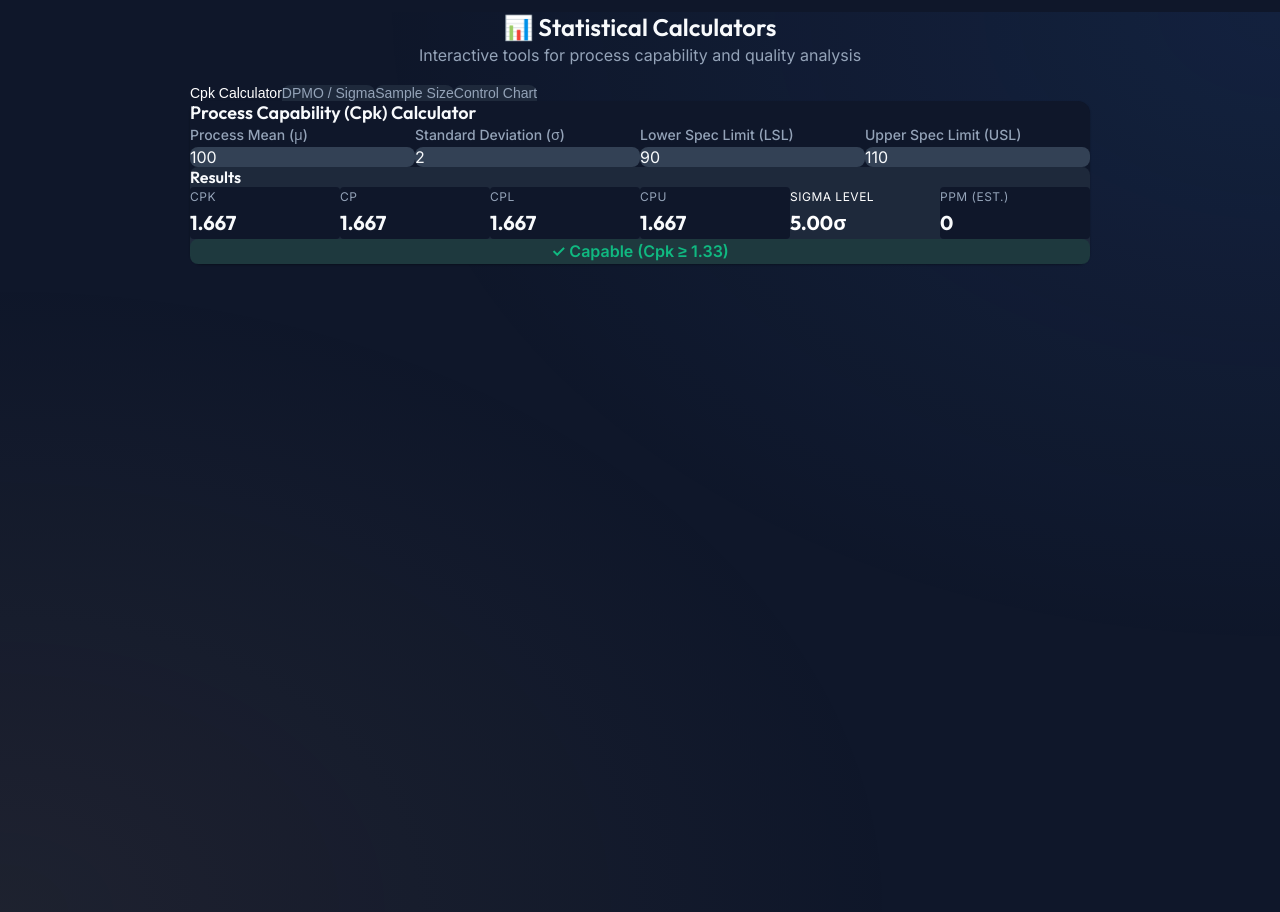
Test: StatCalculators › switches to Sample Size calculator when tab clicked
Click the button "Sample Size" at (414, 93), box [375,85,454,101]
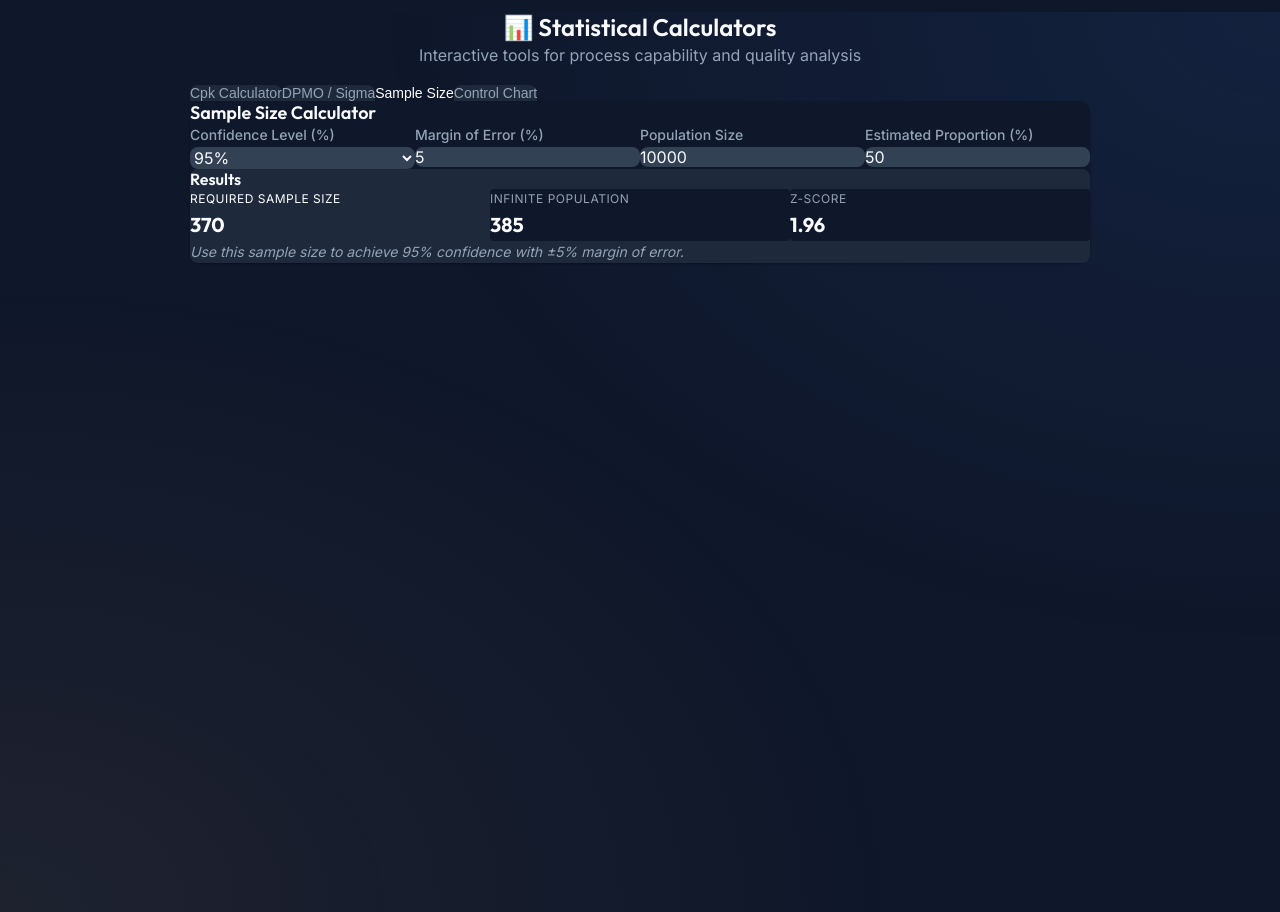
Result: the heading "Sample Size Calculator" is shown at [190,101,376,124]
